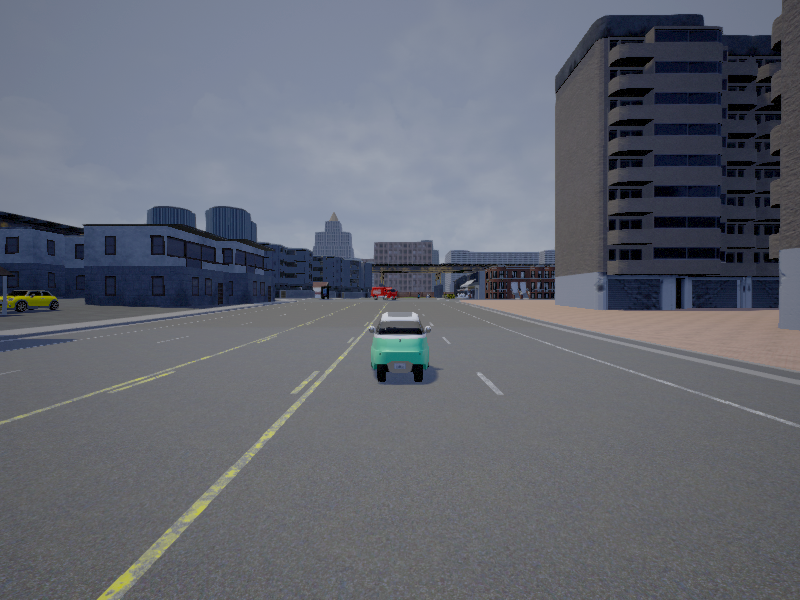Benign: (369, 312, 431, 382), (1, 291, 59, 314), (371, 288, 398, 302)
